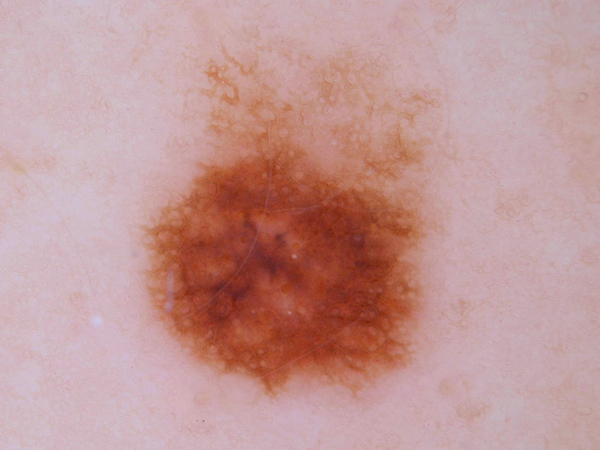Detected Lesion: (140, 137, 435, 400)
